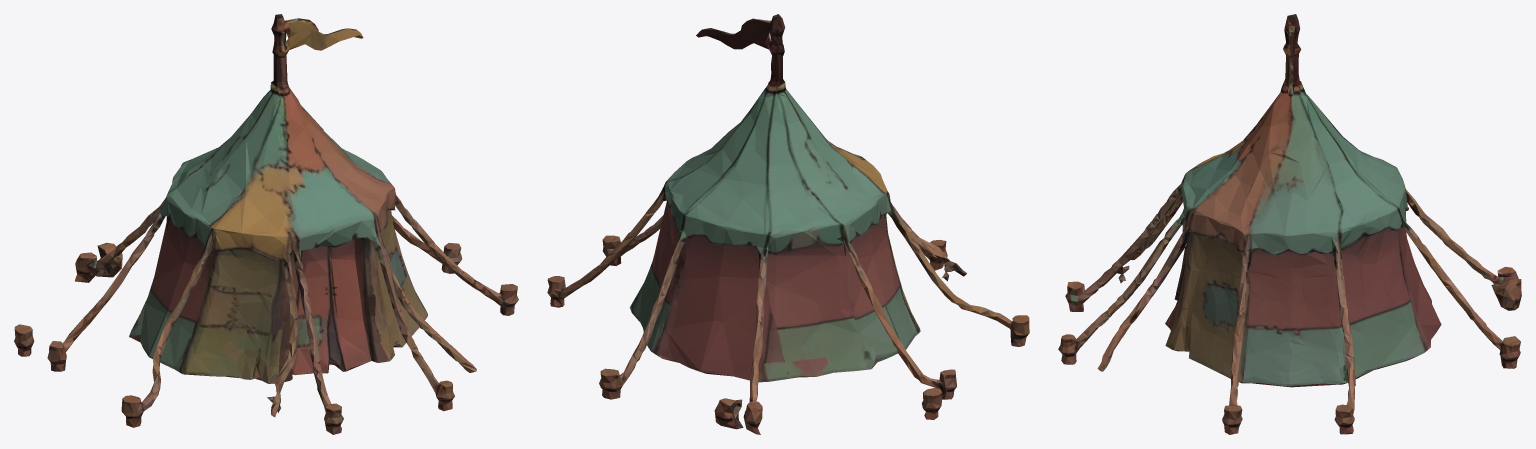
Rendered from tent_a.glb.
3 renders of one model, left to right at view 1: azimuth 30°, elevation 25°; view 2: azimuth 150°, elevation 25°; view 3: azimuth 270°, elevation 25°, orthographic. The views are drawn at different scales.
Parts seen in each view (by area): view 1: geometry_0; view 2: geometry_0; view 3: geometry_0.
Part boxes in pixels (bbox=[...]): geometry_0: bbox=[14, 14, 518, 434]; geometry_0: bbox=[547, 14, 1029, 434]; geometry_0: bbox=[1058, 14, 1521, 434].
Bounding box in the file's own units: 2.8 × 2.05 × 2.67.
1 material, 1 textured.
